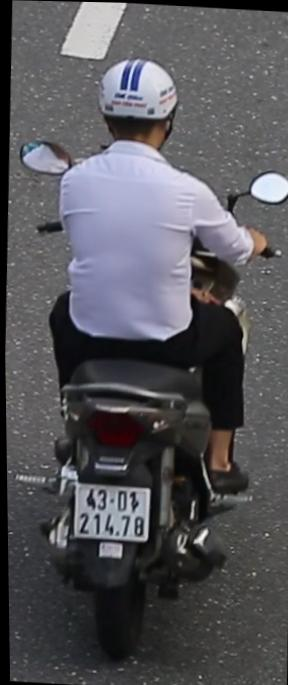LP: (68, 476, 152, 547)
helmet: (94, 49, 184, 162)
